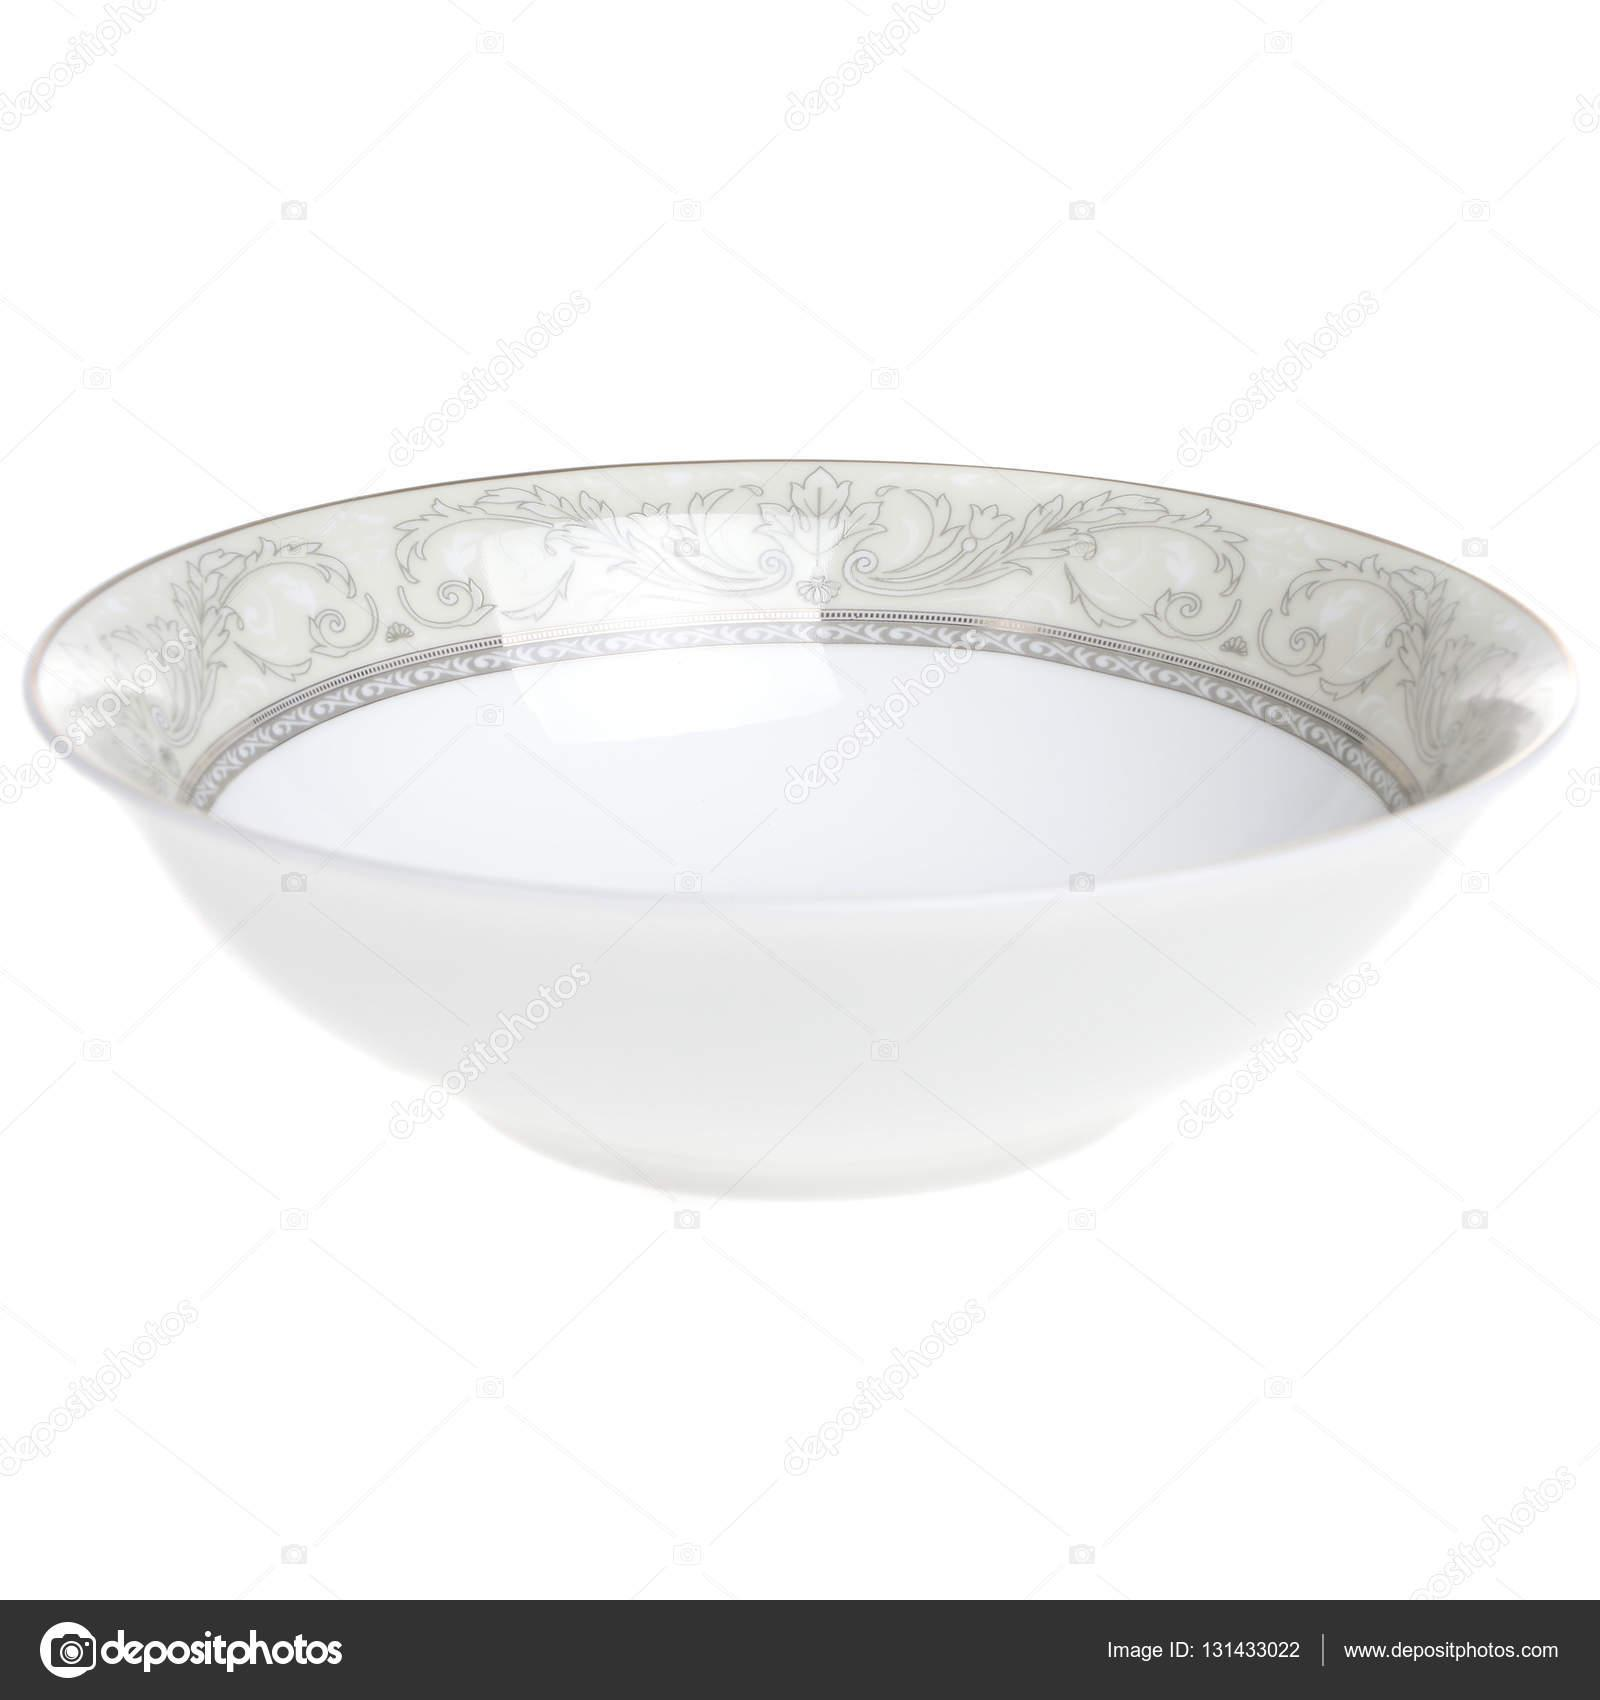bowl: (23, 458, 1582, 1208)
